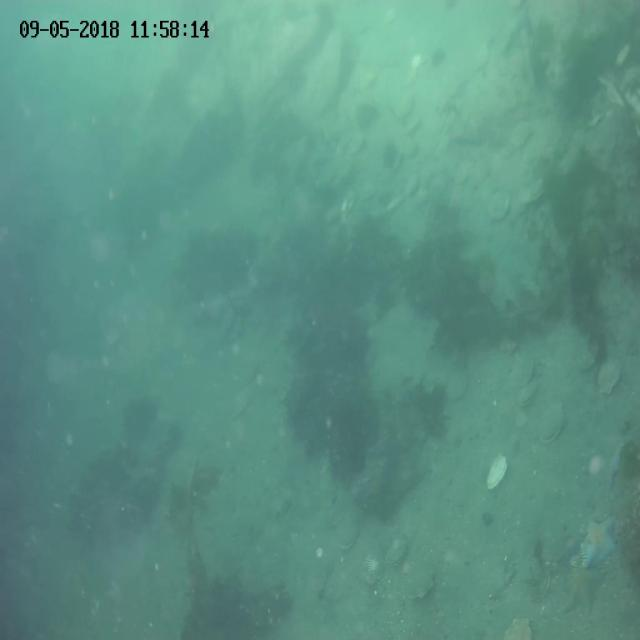scallop: (594, 356, 624, 396), (539, 403, 566, 447), (406, 569, 436, 602), (486, 455, 510, 494), (361, 552, 386, 586), (504, 614, 536, 640), (509, 360, 535, 390), (443, 375, 469, 404), (518, 182, 547, 206), (488, 195, 512, 223), (517, 380, 541, 408), (387, 536, 408, 568), (230, 395, 256, 420), (237, 360, 259, 389), (510, 120, 531, 148), (338, 527, 359, 551), (394, 96, 416, 118), (340, 189, 356, 219), (348, 131, 368, 152), (403, 173, 420, 197), (325, 204, 342, 228), (576, 351, 596, 371), (429, 173, 447, 194), (404, 118, 426, 135), (399, 70, 419, 88), (498, 338, 520, 354), (400, 140, 421, 156)
starfish: (562, 564, 604, 618), (582, 513, 619, 571), (604, 442, 624, 496)
